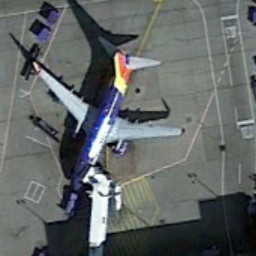Airplane: (26, 30, 195, 231)
